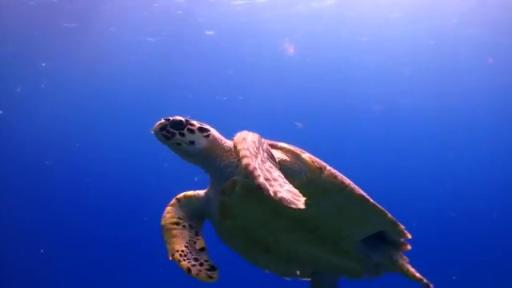Fish: (153, 116, 432, 287)
